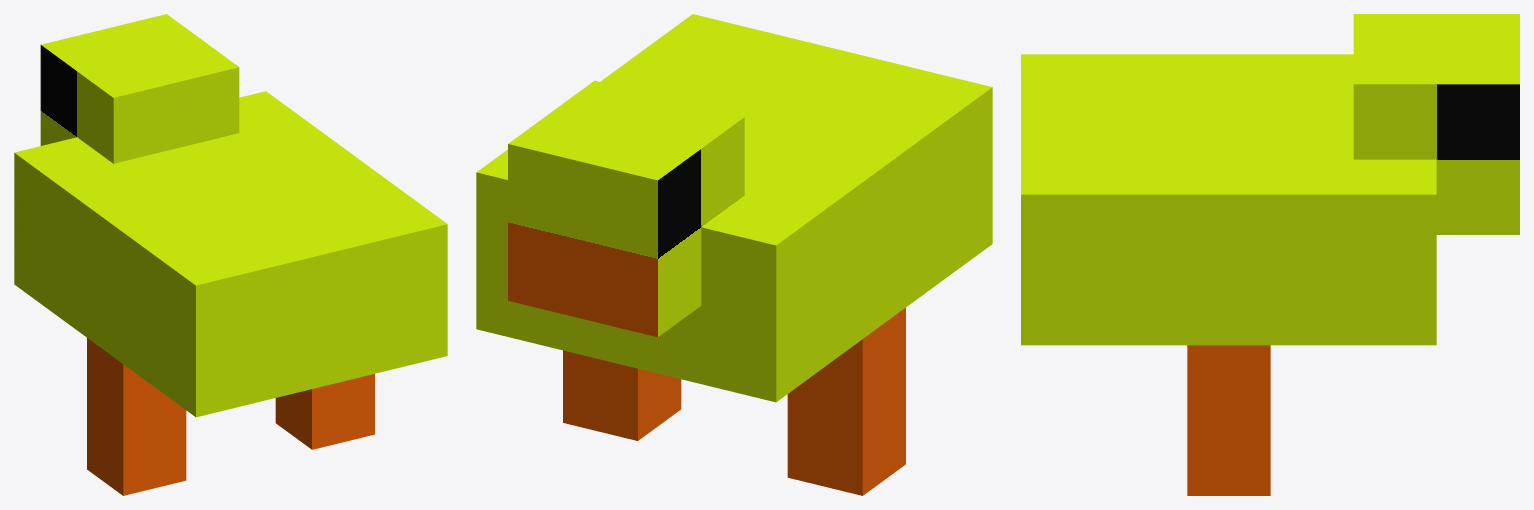
File: chick.gltf
The picture shows the model from 3 angles, left to right: view 1: azimuth 30°, elevation 25°; view 2: azimuth 150°, elevation 25°; view 3: azimuth 270°, elevation 25°; orthographic projection. The views are drawn at different scales.
Visible parts, largest first — view 1: cube (×4); view 2: cube (×4); view 3: cube (×3).
Boxes of the visible parts, x1,y1,x2,y2 form: cube (×4): (14, 14, 447, 495); cube (×4): (476, 14, 992, 495); cube (×3): (1021, 14, 1519, 495).
Bounding box in the file's own units: 0.25 × 0.3125 × 0.375.
3 materials, 3 textured.
